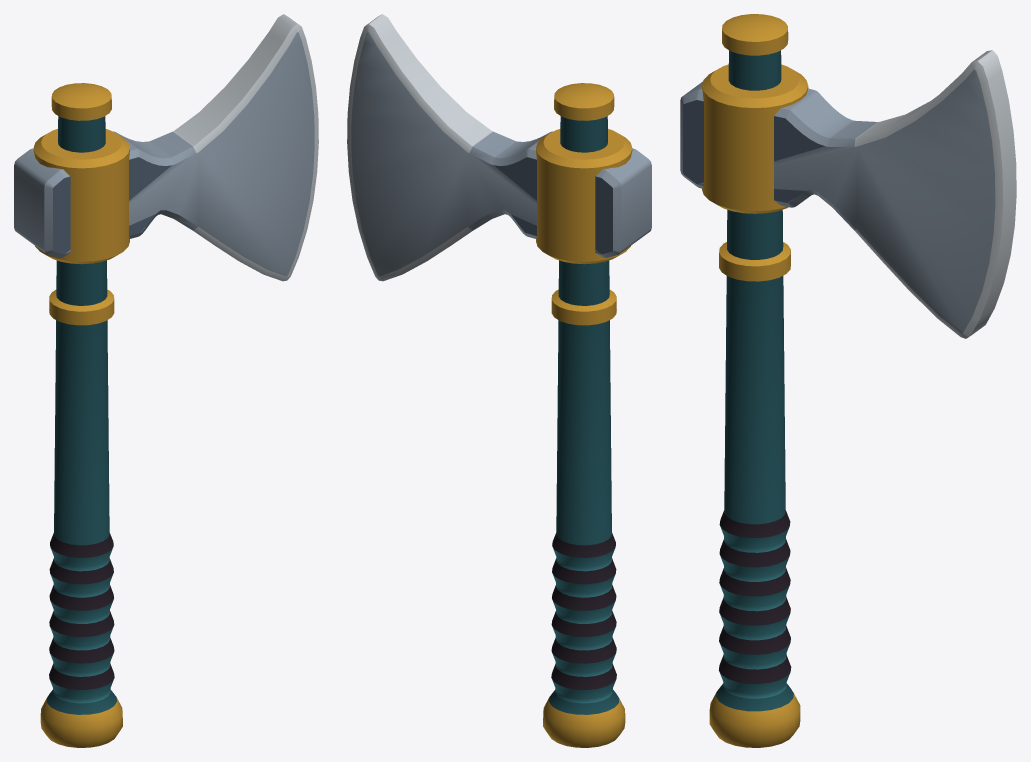
Rendered from Axe_14.glb.
3 views of the same model, side by side, from view 1: azimuth 30°, elevation 25°; view 2: azimuth 150°, elevation 25°; view 3: azimuth 330°, elevation 25° (orthographic). The views are drawn at different scales.
Parts seen in each view (by area): view 1: Axe_14; view 2: Axe_14; view 3: Axe_14.
Part boxes in pixels (x1,y1,x2,y2): Axe_14: [14, 14, 318, 747]; Axe_14: [347, 14, 651, 747]; Axe_14: [680, 14, 1016, 747].
Size of the model in its own units: 2.16 by 4.82 by 0.636.
